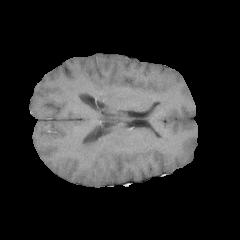glioma: (72, 128, 117, 165)
